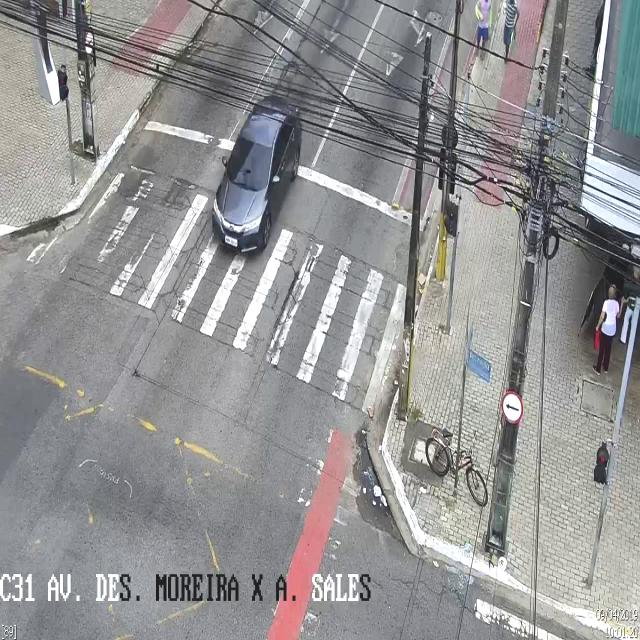Car: (212, 100, 301, 252)
